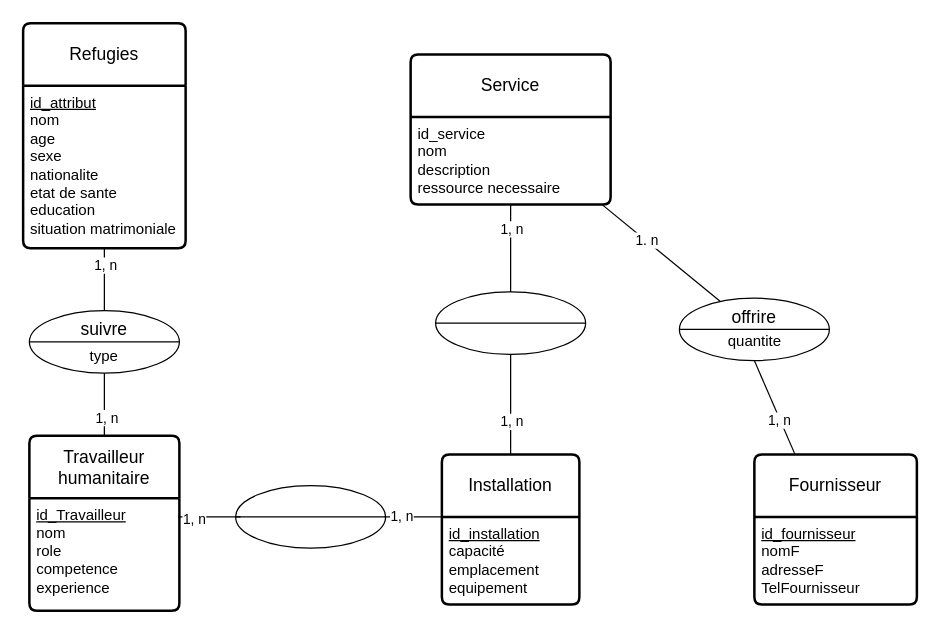
The diagram is 939 pixels wide and 633 high, and some of its shapes have lost their labels. Here are the shapes that lost their labels. From the top down, the centre of each, then its label:
At (510,322): "fournir".
At (310,516): "affilier".
